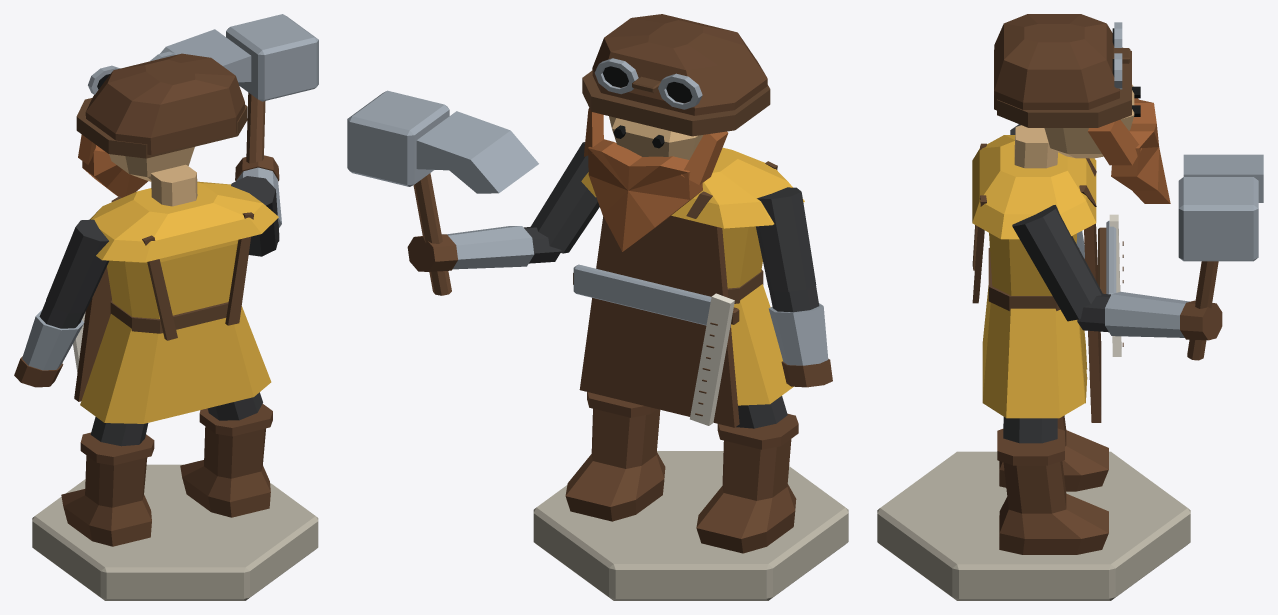
The model's file is human_runebreaker_t5.glb.
3 renders of one model, left to right at view 1: azimuth 30°, elevation 25°; view 2: azimuth 150°, elevation 25°; view 3: azimuth 270°, elevation 25°, orthographic. The views are drawn at different scales.
Parts seen in each view (by area): view 1: Foundation_Hexagonal_Stone, Continuous_Split_Tunic_Skirt, engineer_plain_faceted_workcap, Continuous_Shoulder_Mantle, Continuous_Tunic_Bodice, Boot_-1, Boot_1, engineer_carpenter_hammer_striking_face, left_upper_sleeve, engineer_long_wide_leather_apron, engineer_single_broad_carpenter_claw, left_bracer (+17 smaller); view 2: Foundation_Hexagonal_Stone, engineer_long_wide_leather_apron, engineer_plain_faceted_workcap, Boot_-1, Boot_1, engineer_one_copper_beard_wedge, engineer_carpenter_hammer_striking_face, engineer_single_broad_carpenter_claw, Continuous_Shoulder_Mantle, Continuous_Split_Tunic_Skirt, left_upper_sleeve, engineer_broad_brown_cap_band (+18 smaller); view 3: Foundation_Hexagonal_Stone, engineer_plain_faceted_workcap, Continuous_Split_Tunic_Skirt, Continuous_Shoulder_Mantle, Boot_1, engineer_carpenter_hammer_striking_face, right_upper_sleeve, engineer_one_copper_beard_wedge, right_bracer, engineer_broad_brown_cap_band, Continuous_Tunic_Bodice, Boot_-1 (+15 smaller).
Boxes of the visible parts, left/top/right/bottom form: Foundation_Hexagonal_Stone: left=32, top=464, right=318, bottom=600; Continuous_Split_Tunic_Skirt: left=80, top=306, right=271, bottom=423; engineer_plain_faceted_workcap: left=85, top=53, right=244, bottom=154; Continuous_Shoulder_Mantle: left=90, top=181, right=278, bottom=262; Continuous_Tunic_Bodice: left=107, top=240, right=238, bottom=318; Boot_-1: left=61, top=455, right=151, bottom=546; Boot_1: left=180, top=426, right=270, bottom=517; engineer_carpenter_hammer_striking_face: left=226, top=14, right=318, bottom=101; left_upper_sleeve: left=46, top=219, right=108, bottom=313; engineer_long_wide_leather_apron: left=74, top=266, right=111, bottom=401; engineer_single_broad_carpenter_claw: left=160, top=29, right=251, bottom=82; left_bracer: left=22, top=310, right=84, bottom=370; Foundation_Hexagonal_Stone: left=533, top=451, right=848, bottom=600; engineer_long_wide_leather_apron: left=579, top=215, right=739, bottom=427; engineer_plain_faceted_workcap: left=592, top=14, right=767, bottom=115; Boot_-1: left=696, top=439, right=796, bottom=553; Boot_1: left=565, top=408, right=665, bottom=521; engineer_one_copper_beard_wedge: left=588, top=139, right=702, bottom=251; engineer_carpenter_hammer_striking_face: left=347, top=90, right=449, bottom=186; engineer_single_broad_carpenter_claw: left=416, top=111, right=538, bottom=193; Continuous_Shoulder_Mantle: left=581, top=147, right=804, bottom=228; Continuous_Split_Tunic_Skirt: left=731, top=284, right=793, bottom=405; left_upper_sleeve: left=756, top=187, right=816, bottom=291; engineer_broad_brown_cap_band: left=582, top=71, right=770, bottom=136; Foundation_Hexagonal_Stone: left=877, top=451, right=1190, bottom=600; engineer_plain_faceted_workcap: left=994, top=14, right=1119, bottom=110; Continuous_Split_Tunic_Skirt: left=982, top=285, right=1084, bottom=418; Continuous_Shoulder_Mantle: left=972, top=135, right=1096, bottom=239; Boot_1: left=999, top=461, right=1108, bottom=554; engineer_carpenter_hammer_striking_face: left=1178, top=177, right=1258, bottom=261; right_upper_sleeve: left=1012, top=205, right=1102, bottom=321; engineer_one_copper_beard_wedge: left=1111, top=99, right=1170, bottom=203; right_bracer: left=1105, top=291, right=1189, bottom=337; engineer_broad_brown_cap_band: left=997, top=47, right=1131, bottom=127; Continuous_Tunic_Bodice: left=989, top=233, right=1076, bottom=295; Boot_-1: left=999, top=415, right=1108, bottom=491.
Bounding box in the file's own units: 1.32 × 1.68 × 1.14.
